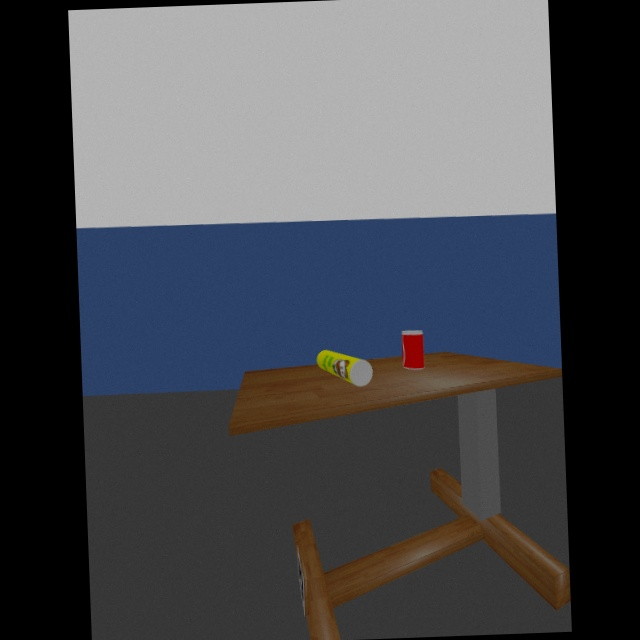chipsdose_gelb: (316, 349, 374, 387)
